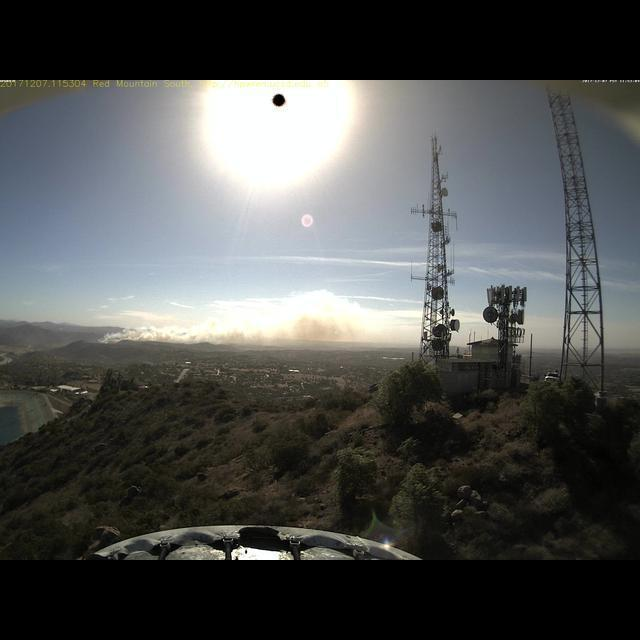Smoke: (96, 298, 362, 351)
